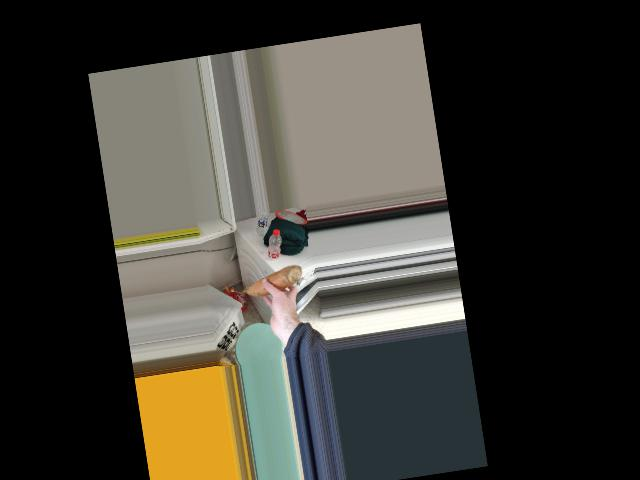sweet_potato: (238, 268, 304, 295)
